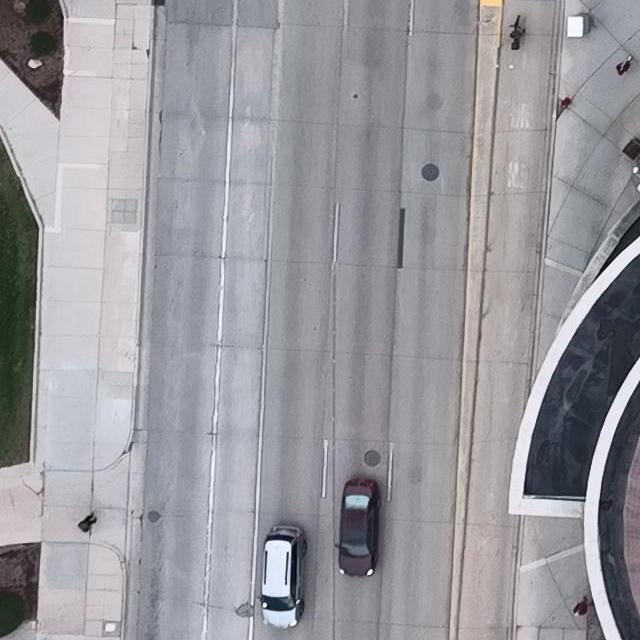car: (258, 525, 307, 628), (333, 478, 381, 578)
